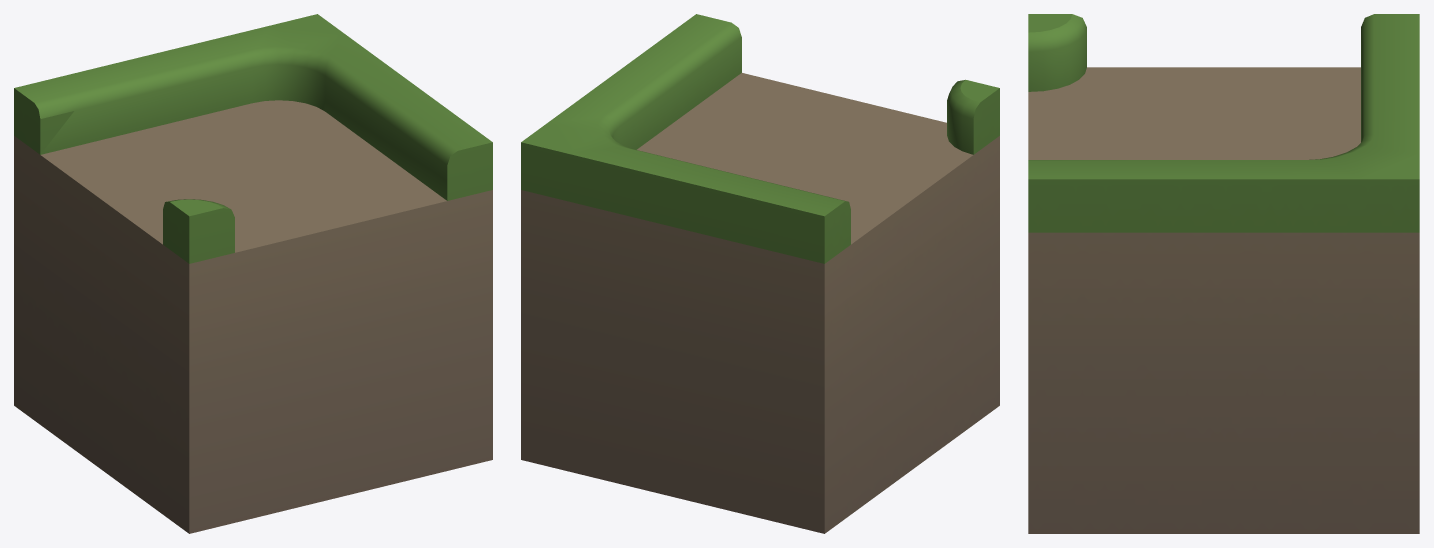
The model's file is roadCube2.fbx.
The picture shows the model from 3 angles, left to right: view 1: azimuth 30°, elevation 25°; view 2: azimuth 150°, elevation 25°; view 3: azimuth 270°, elevation 25°; orthographic projection. The views are drawn at different scales.
Visible parts, largest first — view 1: roadCubeBevel_curve; view 2: roadCubeBevel_curve; view 3: roadCubeBevel_curve.
Part boxes in pixels (x1,y1,x2,y2): roadCubeBevel_curve: (14, 14, 492, 533); roadCubeBevel_curve: (521, 14, 999, 533); roadCubeBevel_curve: (1028, 14, 1419, 533).
Bounding box in the file's own units: 200 × 200 × 200.
